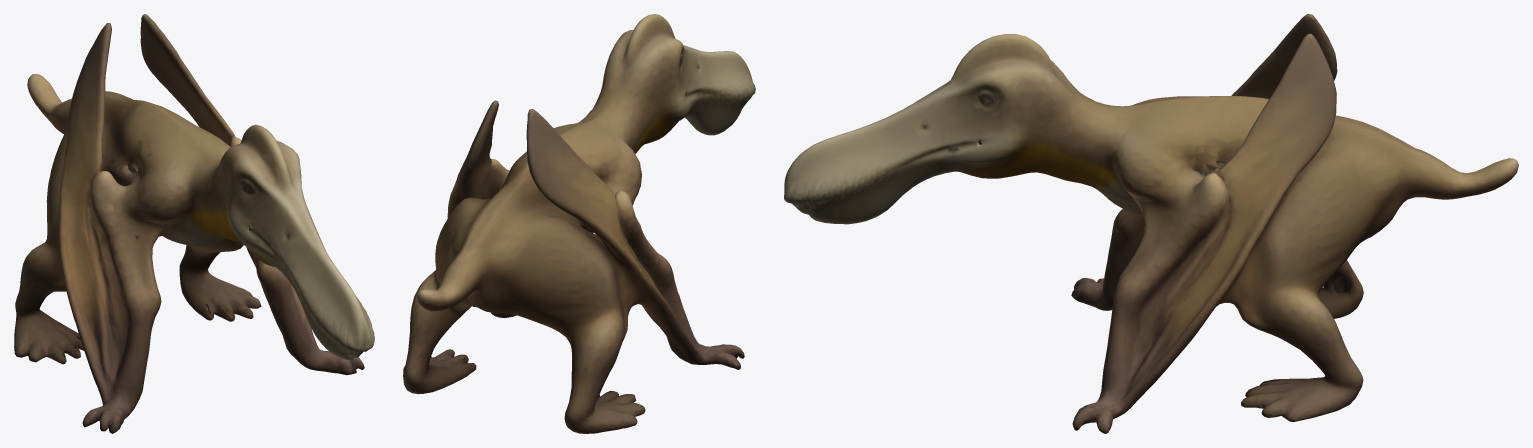
3 renders of one model, left to right at view 1: azimuth 30°, elevation 25°; view 2: azimuth 150°, elevation 25°; view 3: azimuth 270°, elevation 25°, orthographic. The views are drawn at different scales.
Visible parts, largest first — view 1: geometry_0; view 2: geometry_0; view 3: geometry_0.
Boxes of the visible parts, x1,y1,x2,y2 form: geometry_0: (14, 14, 374, 433); geometry_0: (403, 14, 755, 433); geometry_0: (784, 14, 1518, 433).
Size of the model in its own units: 0.6651 by 0.7151 by 1.4.
Materials: 1 (1 with a texture image).
